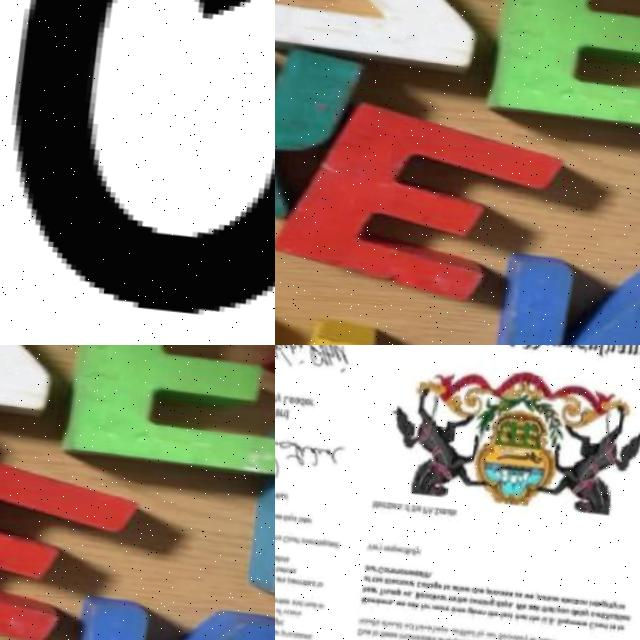A: (616, 345, 627, 351), (294, 396, 301, 405), (276, 408, 283, 416), (441, 590, 447, 599), (419, 568, 425, 576), (429, 505, 435, 513), (292, 597, 298, 604), (583, 606, 589, 613), (279, 566, 286, 572), (515, 589, 522, 595), (421, 623, 427, 629), (519, 633, 525, 639), (408, 600, 414, 606), (522, 612, 528, 618), (504, 609, 510, 615), (615, 611, 621, 617), (529, 601, 535, 607), (277, 574, 283, 580), (501, 598, 507, 604), (372, 584, 378, 590), (275, 628, 280, 634), (440, 634, 445, 640), (410, 578, 414, 585), (546, 634, 550, 640), (313, 600, 317, 606), (551, 603, 555, 609), (454, 583, 458, 589), (275, 554, 279, 560), (302, 516, 306, 522), (288, 514, 292, 520), (448, 507, 452, 513)
B: (276, 565, 283, 573), (388, 501, 395, 509), (435, 624, 441, 632), (379, 596, 385, 604), (417, 589, 423, 597), (479, 629, 483, 635), (483, 638, 489, 640)
C: (380, 563, 387, 573), (590, 618, 597, 626), (498, 587, 505, 594), (418, 579, 424, 587), (284, 534, 290, 542), (507, 632, 514, 638), (507, 610, 514, 616), (470, 594, 476, 601), (452, 626, 458, 632), (592, 608, 598, 614), (572, 595, 578, 601), (402, 545, 408, 551), (612, 609, 616, 616), (407, 631, 411, 637), (431, 590, 435, 596), (398, 577, 402, 583)
D: (284, 409, 291, 418), (472, 584, 479, 592), (473, 627, 479, 636), (335, 539, 341, 548), (285, 492, 291, 501), (300, 396, 306, 405), (399, 620, 405, 628), (300, 598, 306, 606), (314, 579, 320, 587), (572, 606, 578, 614), (283, 513, 289, 521), (360, 627, 366, 633), (497, 599, 503, 605), (448, 635, 452, 640)
E: (275, 99, 567, 302), (0, 442, 142, 640), (289, 395, 296, 403), (305, 396, 311, 404), (387, 629, 394, 635), (394, 630, 401, 636), (438, 624, 444, 631), (504, 632, 511, 638), (383, 596, 389, 603), (496, 608, 502, 615), (537, 613, 544, 619), (523, 600, 529, 607), (439, 581, 445, 588), (531, 591, 538, 597), (380, 574, 386, 581), (502, 588, 509, 594), (373, 542, 380, 548), (386, 544, 393, 550), (439, 506, 445, 513), (418, 504, 425, 510), (428, 634, 434, 640), (368, 627, 374, 633), (429, 623, 435, 629), (442, 625, 448, 631), (286, 597, 292, 603), (403, 599, 409, 605), (464, 605, 470, 611), (479, 607, 485, 613), (575, 617, 581, 623), (368, 595, 374, 601), (585, 618, 591, 624), (368, 584, 374, 590), (284, 575, 290, 581), (578, 606, 584, 612), (465, 594, 471, 600), (596, 608, 602, 614), (386, 577, 392, 583), (392, 577, 398, 583), (431, 580, 437, 586), (561, 594, 567, 600), (568, 595, 574, 601), (599, 598, 605, 604), (481, 586, 487, 592), (557, 594, 563, 600), (415, 569, 421, 575), (332, 540, 338, 546), (279, 533, 285, 539), (398, 545, 404, 551), (307, 517, 313, 523), (278, 513, 284, 519), (280, 491, 286, 497), (454, 508, 460, 514), (392, 502, 398, 508), (380, 500, 386, 506), (294, 609, 299, 616), (514, 632, 519, 638), (275, 511, 280, 517), (469, 627, 473, 634), (363, 617, 368, 622), (460, 636, 466, 640), (456, 626, 460, 632), (551, 636, 557, 640), (284, 597, 288, 603), (275, 596, 279, 602), (448, 603, 452, 609), (310, 579, 314, 585), (293, 576, 297, 582), (311, 537, 315, 543), (275, 627, 277, 633)
F: (50, 345, 275, 478), (475, 0, 640, 135), (501, 610, 506, 618), (281, 607, 285, 615), (607, 609, 611, 617), (534, 634, 539, 640), (423, 600, 426, 609), (408, 545, 411, 554), (409, 502, 412, 511), (466, 628, 470, 634), (278, 491, 281, 499), (370, 575, 373, 581)
G: (469, 603, 475, 612), (603, 597, 609, 606), (492, 595, 498, 603), (435, 579, 441, 587), (276, 616, 280, 624)
H: (414, 503, 421, 512), (534, 612, 541, 620), (386, 619, 392, 627), (364, 584, 370, 592), (428, 569, 433, 578), (491, 608, 498, 614), (519, 610, 524, 618), (418, 621, 422, 630), (546, 604, 552, 610), (376, 575, 382, 581), (384, 630, 388, 636), (280, 618, 284, 624), (461, 595, 465, 601)
I: (611, 619, 615, 629), (621, 611, 626, 619), (463, 626, 467, 635), (456, 604, 460, 612), (303, 578, 307, 586), (604, 609, 608, 617), (591, 597, 595, 605), (578, 596, 582, 604), (473, 605, 476, 614), (484, 596, 487, 605), (610, 599, 613, 608), (276, 491, 279, 500), (421, 633, 425, 639), (620, 600, 623, 608), (301, 632, 304, 638), (296, 631, 299, 637), (401, 631, 404, 637), (321, 602, 324, 608), (315, 601, 318, 607), (449, 594, 452, 600), (609, 610, 612, 616), (280, 491, 282, 499), (469, 638, 472, 640), (275, 617, 276, 623)
K: (275, 15, 380, 246), (417, 600, 423, 608), (538, 602, 544, 610), (433, 592, 437, 598)
L: (597, 345, 606, 354), (284, 395, 292, 404), (423, 569, 427, 577), (398, 620, 401, 628), (580, 607, 584, 613), (286, 566, 289, 574), (391, 576, 394, 584), (460, 582, 463, 590), (458, 582, 461, 590), (566, 594, 569, 602), (414, 547, 417, 555), (415, 547, 418, 555), (300, 516, 303, 524), (374, 618, 377, 624), (317, 600, 320, 606), (284, 566, 287, 572), (429, 581, 432, 587), (428, 580, 431, 586), (414, 580, 417, 586), (278, 554, 280, 560), (281, 555, 283, 561)
M: (363, 594, 370, 602), (389, 565, 397, 572), (306, 599, 313, 606), (458, 604, 465, 611), (579, 617, 586, 624), (434, 601, 441, 608), (479, 595, 486, 602), (374, 499, 380, 507), (392, 587, 399, 593), (384, 501, 391, 507), (374, 596, 380, 602), (396, 566, 402, 572), (275, 533, 280, 540), (300, 577, 305, 582)
N: (479, 237, 640, 345), (54, 580, 275, 640), (626, 345, 640, 352), (305, 631, 312, 637), (413, 632, 420, 638), (402, 631, 409, 637), (431, 634, 438, 640), (296, 598, 302, 605), (584, 596, 590, 603), (404, 568, 411, 574), (405, 621, 411, 627), (446, 625, 452, 631), (483, 607, 489, 613), (628, 611, 634, 617), (452, 593, 458, 599), (487, 596, 493, 602), (622, 601, 628, 607), (593, 598, 599, 604), (443, 507, 449, 513), (443, 635, 449, 640), (278, 596, 282, 602), (323, 602, 326, 607), (475, 638, 481, 640), (275, 564, 276, 570)
O: (410, 631, 416, 638), (409, 621, 415, 628), (531, 634, 538, 640), (286, 609, 293, 615), (426, 590, 433, 596), (421, 590, 428, 596), (623, 611, 630, 617), (366, 563, 373, 569), (401, 567, 408, 573), (384, 565, 391, 571), (376, 628, 382, 634), (488, 630, 494, 636), (276, 607, 282, 613), (621, 622, 627, 628), (425, 601, 431, 607), (596, 619, 602, 625), (562, 604, 568, 610), (475, 595, 481, 601), (494, 587, 500, 593), (365, 574, 371, 580), (461, 584, 467, 590), (423, 579, 429, 585), (402, 577, 408, 583), (447, 582, 453, 588), (289, 535, 295, 541), (302, 536, 308, 542), (302, 631, 307, 637), (289, 629, 294, 635), (287, 566, 292, 572), (405, 503, 410, 509), (581, 596, 585, 603), (440, 603, 445, 608), (392, 620, 396, 626), (321, 580, 325, 586), (282, 555, 286, 561), (322, 538, 326, 544), (472, 638, 478, 640)
P: (568, 614, 575, 622), (537, 590, 544, 598), (328, 536, 334, 545), (288, 574, 294, 582), (394, 543, 400, 551), (425, 504, 431, 512), (282, 628, 289, 634), (488, 585, 493, 593), (398, 587, 404, 593), (325, 536, 329, 544)
Q: (0, 0, 275, 339), (453, 636, 459, 640)
R: (310, 398, 316, 406), (495, 630, 500, 637), (297, 609, 302, 616), (384, 543, 389, 550), (511, 632, 516, 638), (375, 564, 380, 570), (524, 633, 528, 640), (297, 577, 301, 584), (445, 593, 450, 598), (603, 620, 607, 626), (572, 616, 576, 622), (387, 597, 391, 603), (429, 601, 433, 607), (281, 575, 285, 581), (377, 585, 381, 591), (600, 608, 604, 614), (608, 599, 612, 605), (408, 578, 412, 584), (296, 534, 299, 542), (313, 537, 317, 543), (378, 543, 382, 549), (311, 517, 315, 523), (397, 502, 401, 508), (281, 410, 285, 416), (279, 629, 283, 634), (492, 587, 496, 592), (546, 593, 550, 598), (460, 627, 463, 633), (386, 586, 389, 592), (287, 630, 290, 635), (361, 617, 364, 622), (275, 490, 277, 496), (446, 604, 448, 609), (275, 512, 276, 518)
S: (550, 614, 557, 622), (548, 592, 555, 600), (499, 631, 505, 639), (559, 615, 565, 623), (510, 587, 516, 595), (435, 505, 441, 513), (391, 630, 398, 636), (382, 618, 388, 625), (506, 589, 513, 595), (519, 590, 526, 596), (309, 633, 315, 639), (422, 633, 428, 639), (539, 634, 545, 640), (389, 597, 395, 603), (613, 621, 619, 627), (294, 515, 300, 521), (534, 600, 538, 608), (418, 633, 423, 639), (300, 609, 305, 615), (293, 567, 298, 573), (297, 630, 301, 636), (366, 617, 370, 623), (378, 618, 382, 624), (414, 600, 418, 606), (409, 588, 413, 594), (510, 599, 514, 605), (287, 555, 291, 561), (316, 538, 320, 544), (392, 544, 396, 550), (400, 502, 404, 508), (464, 637, 470, 640), (275, 606, 277, 612), (275, 574, 277, 580), (275, 595, 276, 601)
T: (380, 587, 387, 593), (435, 633, 440, 640), (517, 632, 521, 640), (414, 621, 418, 629), (292, 608, 296, 616), (619, 621, 623, 629), (554, 604, 558, 612), (444, 581, 448, 589), (299, 535, 303, 543), (406, 545, 410, 553), (451, 507, 455, 515), (374, 628, 379, 634), (489, 608, 494, 614), (526, 612, 531, 618), (531, 613, 536, 619), (602, 610, 607, 616), (275, 392, 278, 401), (426, 634, 430, 640), (283, 619, 287, 625), (462, 626, 465, 634), (281, 597, 285, 603), (512, 610, 515, 618), (453, 604, 457, 610), (607, 620, 611, 626), (305, 579, 309, 585), (318, 580, 322, 586), (619, 612, 623, 618), (544, 603, 547, 611), (458, 594, 462, 600), (290, 567, 294, 573), (401, 577, 404, 585), (373, 574, 377, 580), (597, 598, 601, 604), (284, 555, 288, 561), (425, 569, 428, 577), (319, 539, 323, 545), (305, 516, 309, 522), (412, 503, 415, 511), (383, 629, 386, 635), (376, 618, 379, 624), (517, 611, 520, 617), (307, 579, 310, 585), (576, 597, 579, 603), (613, 600, 616, 606), (468, 636, 471, 640), (544, 636, 547, 640), (549, 636, 552, 640)
U: (544, 613, 551, 621), (541, 592, 548, 598), (553, 593, 559, 600), (364, 627, 370, 633), (370, 617, 376, 623), (394, 620, 400, 626), (599, 620, 605, 626), (564, 616, 570, 622), (566, 606, 572, 612), (388, 586, 394, 592), (478, 585, 484, 591), (370, 564, 376, 570), (293, 535, 299, 541), (410, 546, 415, 552), (492, 631, 497, 636), (456, 636, 462, 640)
V: (604, 345, 618, 353), (368, 542, 375, 551), (437, 591, 443, 598), (404, 588, 411, 594), (425, 623, 431, 629), (292, 630, 297, 636), (476, 606, 480, 612), (285, 609, 288, 614), (308, 537, 311, 542)
W: (517, 599, 526, 608), (526, 590, 533, 597), (466, 584, 472, 591), (398, 598, 404, 604), (410, 568, 416, 574)
Y: (277, 390, 284, 401), (587, 605, 593, 614), (291, 512, 297, 521), (482, 627, 488, 635), (614, 598, 620, 606), (526, 631, 530, 640), (506, 598, 512, 604), (559, 603, 563, 611), (417, 545, 421, 553), (381, 542, 385, 548)
